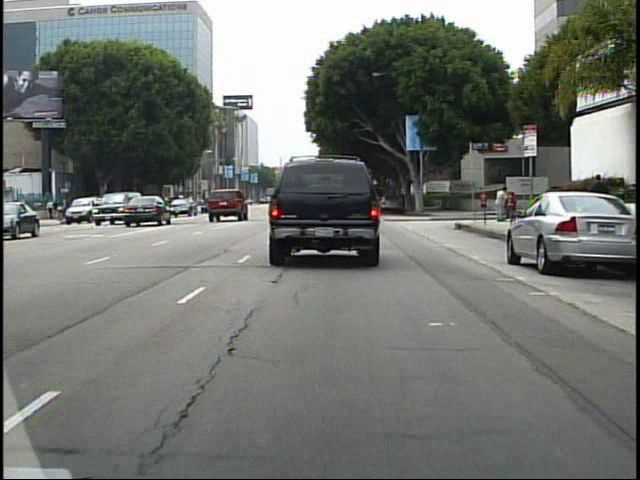person: (585, 167, 609, 234), (493, 184, 507, 224)
